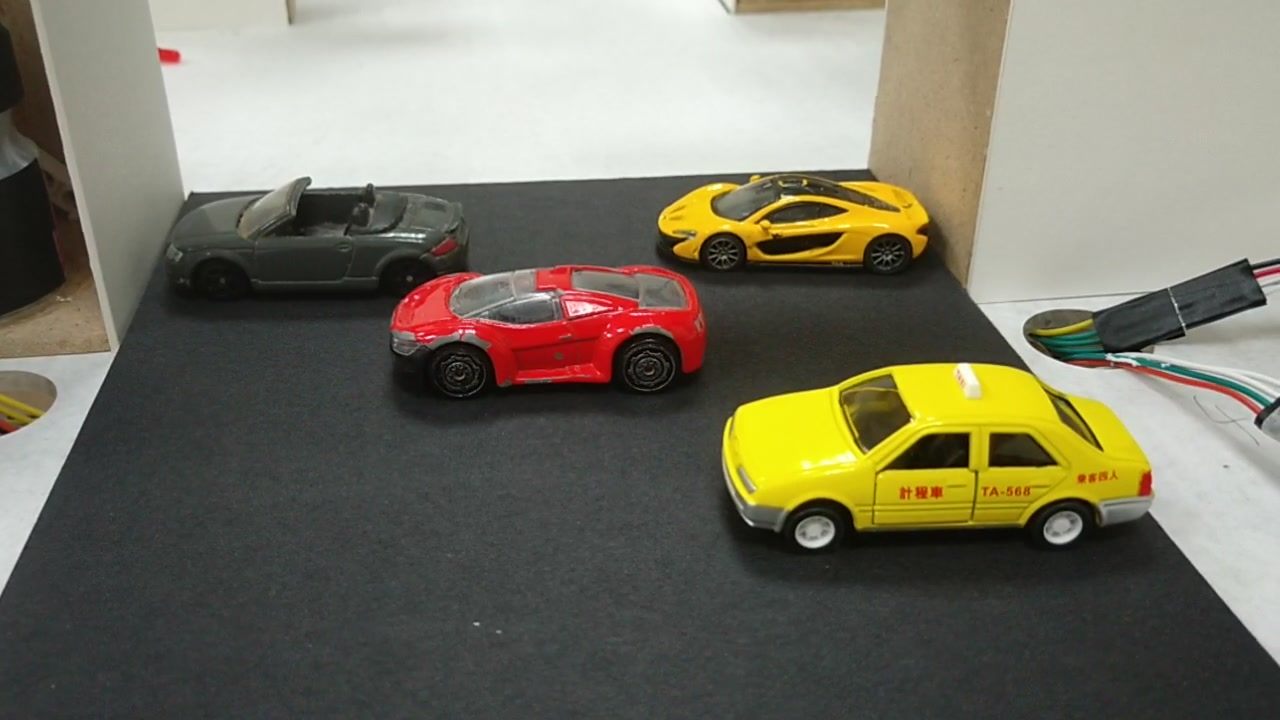car: (726, 371, 1153, 546), (397, 265, 702, 387), (658, 180, 930, 274), (167, 199, 462, 282)
